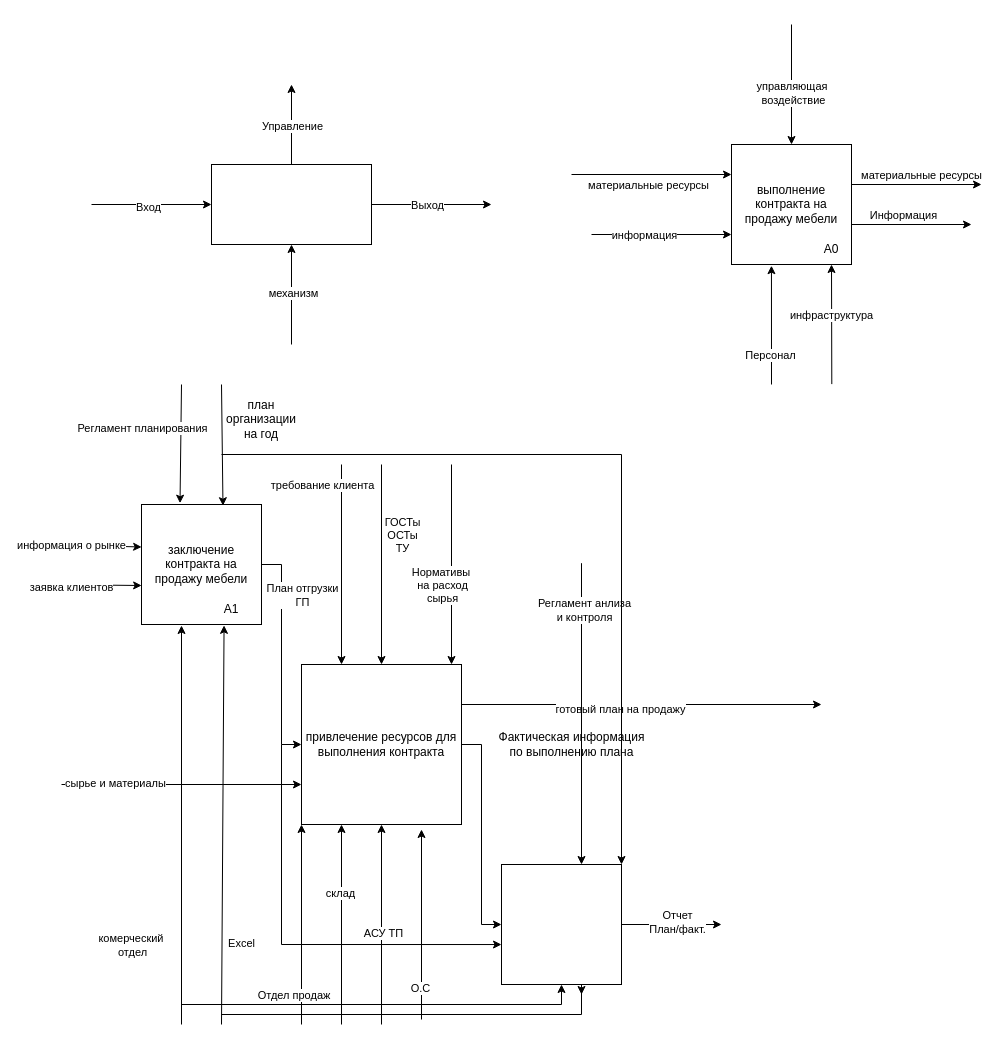
This 1007x1050 diagram has some shape labels left out. The shapes that lost their labels are listed below. From the top down, each one's centre as x and y in pixels, then its label:
point (291, 204): функциональный Блок
point (561, 924): выполнение контракта на продажу мебеди
